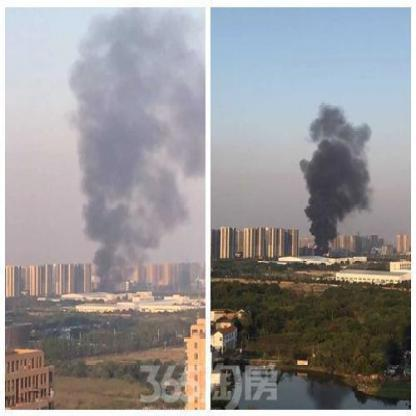smoke: (81, 98, 199, 160), (96, 22, 192, 92), (81, 166, 182, 216), (309, 167, 342, 252), (316, 120, 365, 176), (99, 222, 133, 274)
